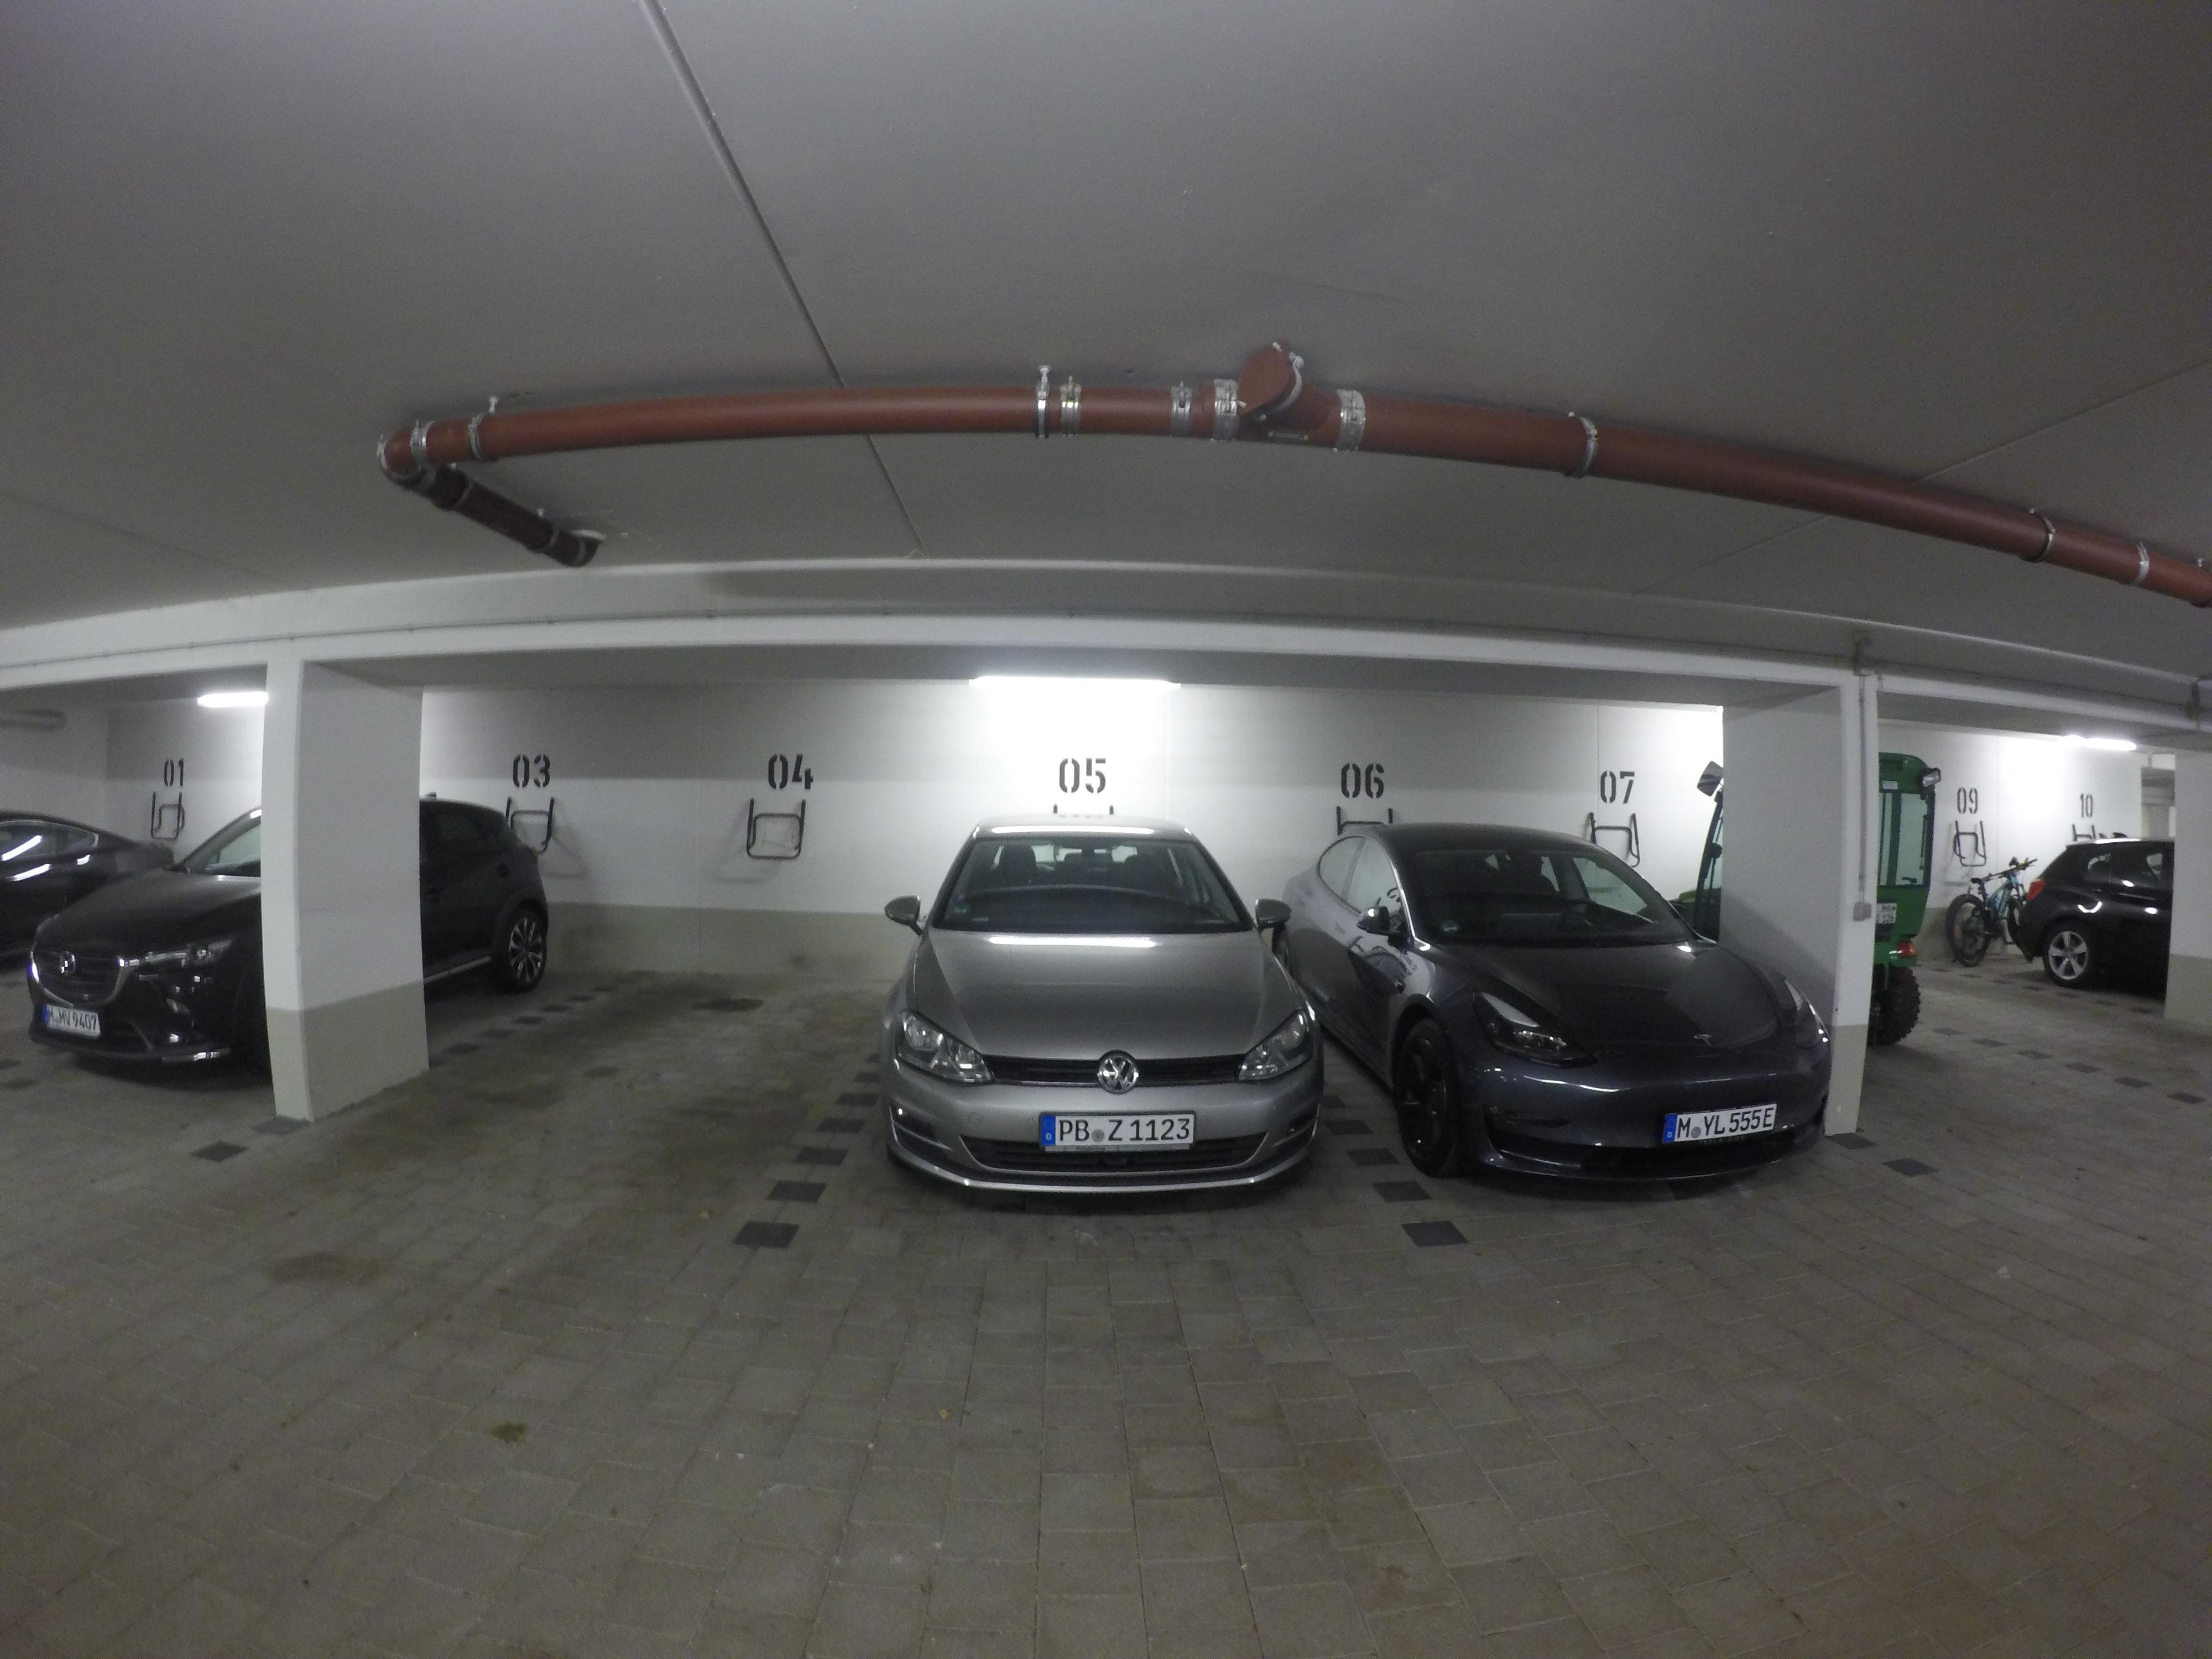0: (84, 1013, 91, 1030)
1: (1128, 1118, 1144, 1141), (1145, 1117, 1160, 1141)
2: (1161, 1118, 1174, 1141)
3: (1176, 1117, 1190, 1140)
4: (79, 1013, 85, 1029)
5: (1750, 1108, 1761, 1129), (1729, 1112, 1740, 1132), (1741, 1108, 1750, 1131)
7: (91, 1014, 97, 1031)
9: (72, 1011, 79, 1028)
B: (1073, 1118, 1091, 1141)
E: (1762, 1106, 1774, 1128)
L: (1714, 1113, 1725, 1135)
M: (1676, 1115, 1691, 1140), (58, 1008, 66, 1025), (48, 1006, 54, 1024)
P: (1058, 1117, 1073, 1142)
V: (64, 1010, 71, 1025)
Y: (1703, 1113, 1714, 1136)
Z: (1107, 1117, 1124, 1141)
